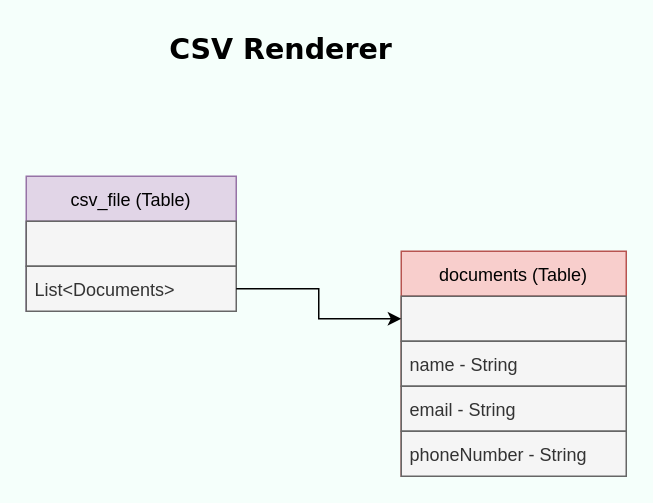
The diagram is 653 pixels wide and 503 high, and some of its shapes have lost their labels. Here are the shapes that lost their labels. From the top down, the centre of each, then its label:
At point (130, 243): "file_name (PK)".
At point (513, 318): "ID - Long (PK)".
